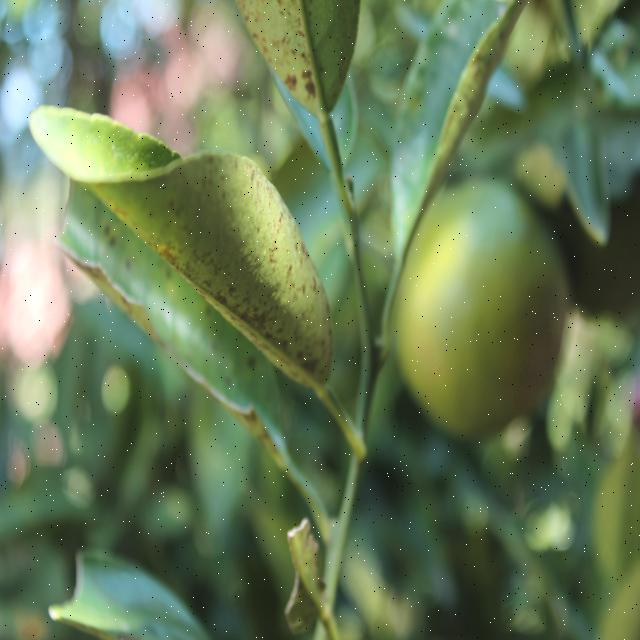melanose: (36, 95, 340, 434), (228, 0, 365, 110)
